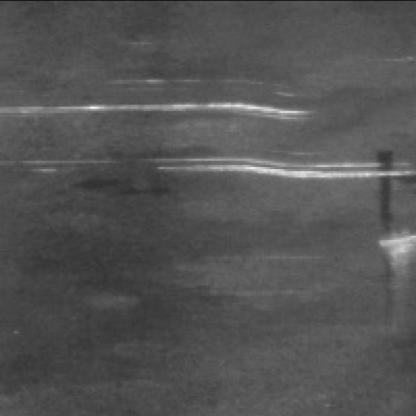scratches: (6, 98, 314, 133), (148, 152, 412, 191)
